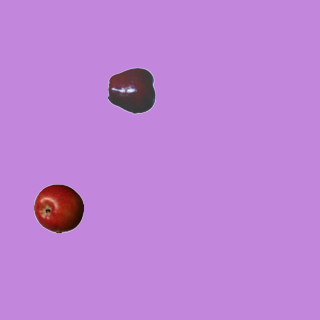Apple Braeburn: (33, 183, 83, 233)
Apple Red Delicious: (107, 65, 157, 115)
